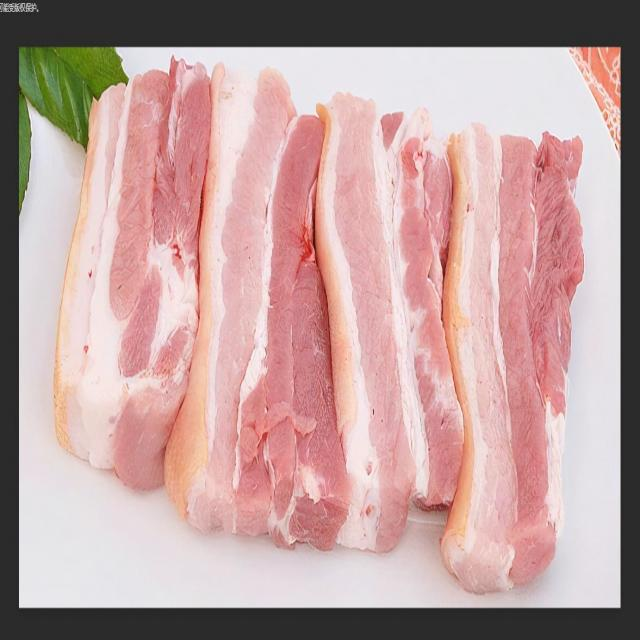pork: (202, 54, 358, 586), (307, 76, 469, 546), (449, 107, 592, 608), (60, 67, 209, 495)
